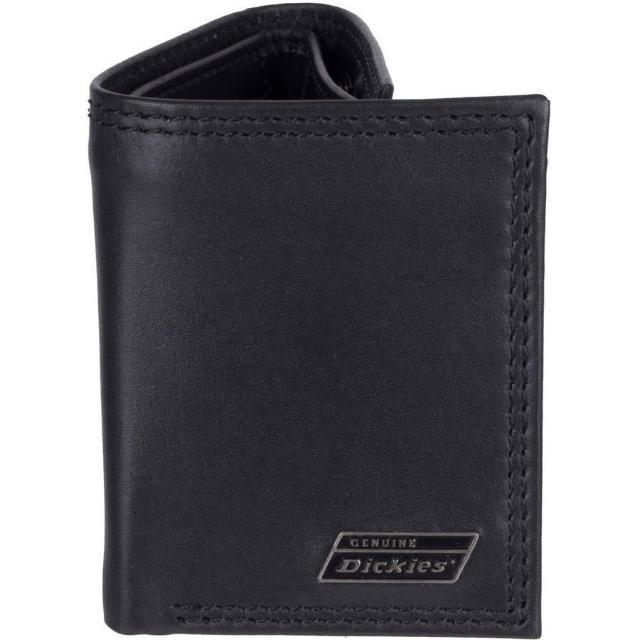wallet: (86, 3, 548, 635)
